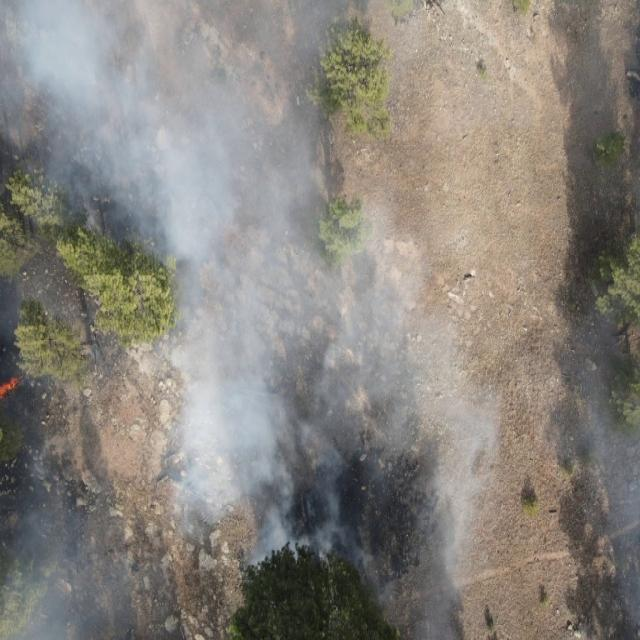fire: (0, 374, 25, 401)
smoke: (0, 0, 382, 640), (580, 310, 640, 640), (382, 234, 426, 640), (426, 306, 462, 640), (462, 367, 502, 605), (382, 0, 428, 64)
